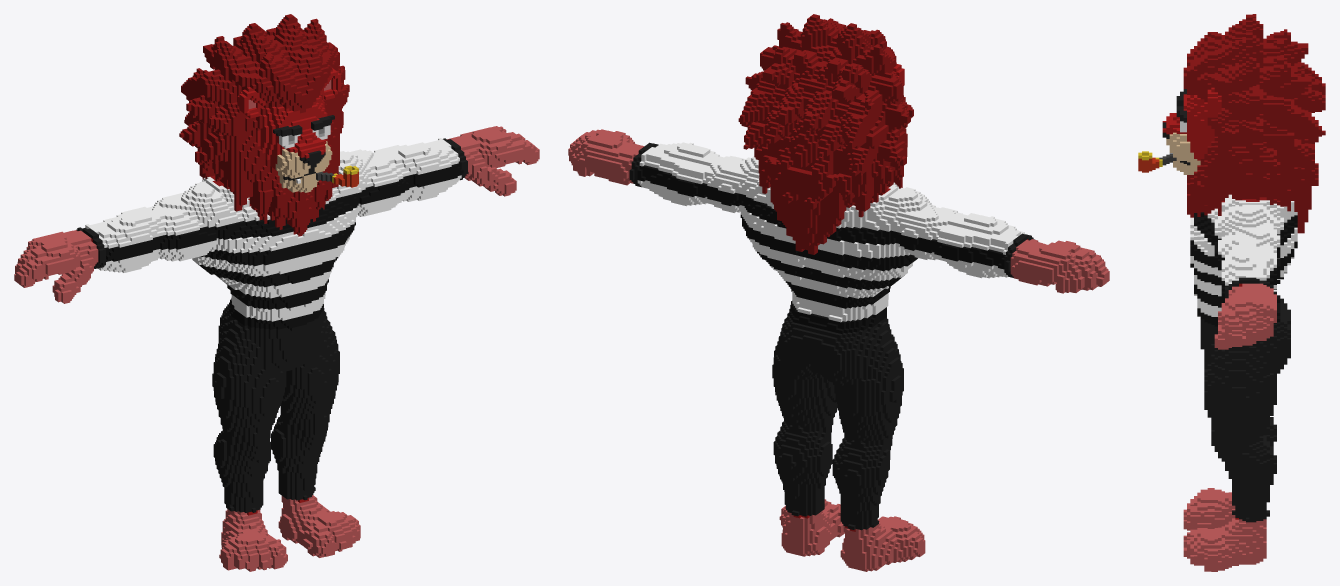
3 renders of one model, left to right at view 1: azimuth 30°, elevation 25°; view 2: azimuth 150°, elevation 25°; view 3: azimuth 270°, elevation 25°, orthographic. The views are drawn at different scales.
Visible parts, largest first — view 1: pipe; view 2: pipe; view 3: pipe.
Boxes of the visible parts, left/top/right/bottom form: pipe: left=14, top=14, right=539, bottom=571; pipe: left=568, top=14, right=1109, bottom=571; pipe: left=1138, top=14, right=1325, bottom=571.
Size of the model in its own units: 17.2 by 16.5 by 5.4.
5 materials, 5 textured.
